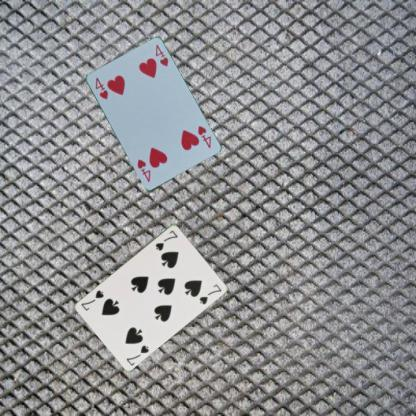4h: (194, 123, 212, 150), (92, 74, 110, 100)
7s: (152, 227, 180, 252), (124, 342, 150, 367)
